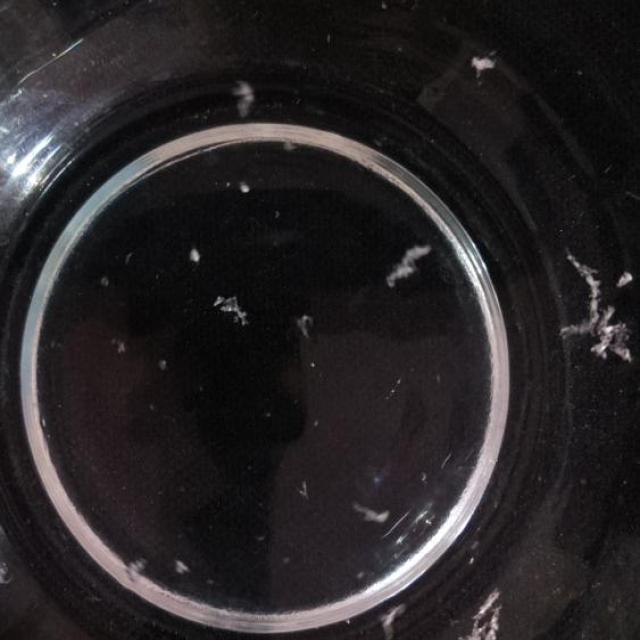fiber: (383, 232, 432, 302), (564, 248, 598, 346), (454, 589, 517, 639), (592, 311, 638, 366), (212, 292, 254, 336), (372, 593, 406, 639), (353, 496, 390, 530), (230, 70, 257, 116), (465, 48, 499, 75), (123, 547, 143, 579), (302, 465, 318, 504), (106, 333, 130, 358), (166, 551, 188, 578), (91, 264, 114, 288), (291, 305, 309, 335), (618, 267, 636, 291), (241, 173, 260, 195), (189, 242, 202, 268)
